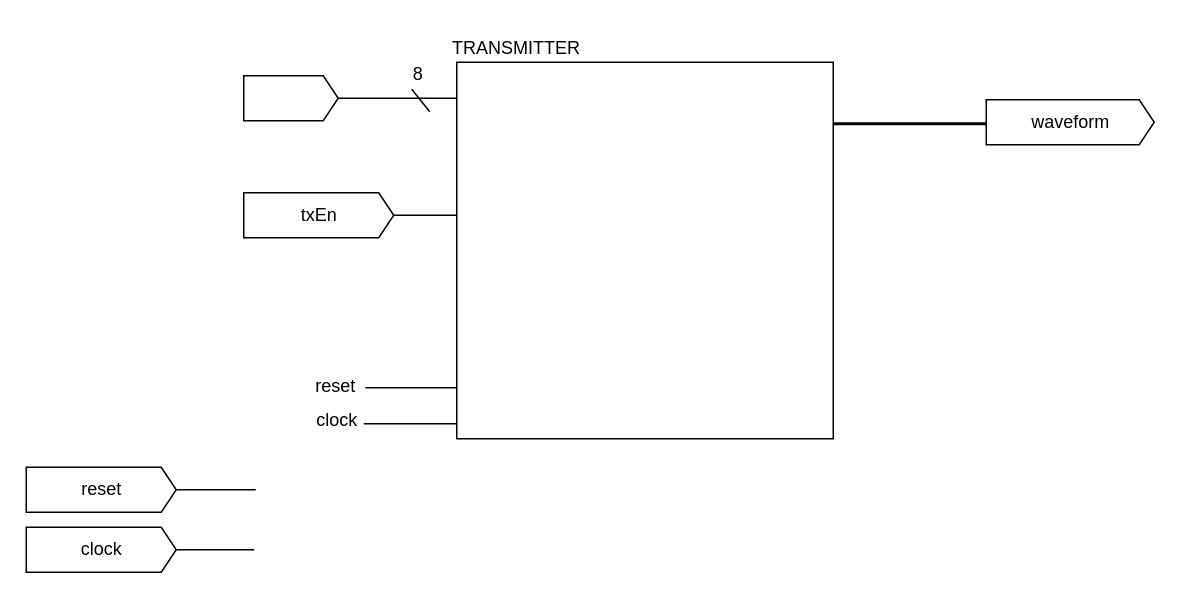
Image size: 1181x599. Some labels were removed from this diagram. Each missing label, with the box of its shape:
contains: PULSE_GEN_ENCODER BIT_GEN TRANSMITTER: (455, 61, 833, 439)
data: (242, 74, 338, 121)
